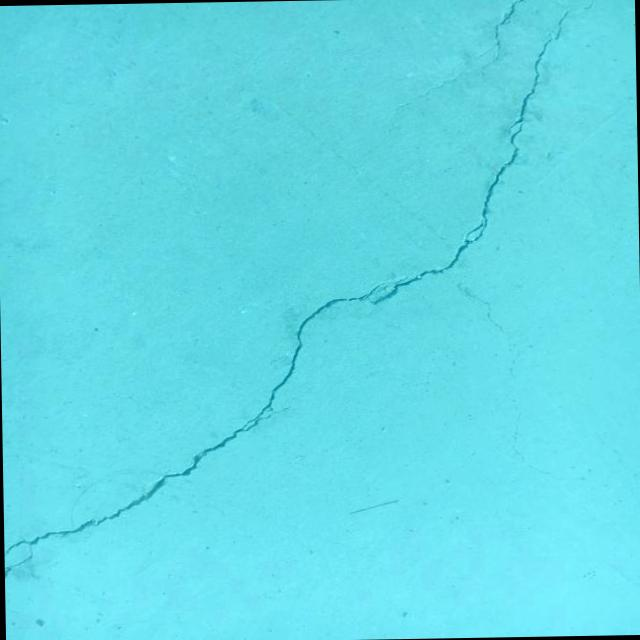crack: (0, 0, 615, 579), (394, 0, 528, 107), (504, 390, 587, 480), (508, 342, 521, 376)
